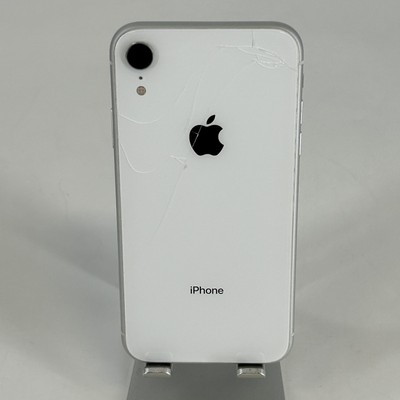crack_phone: (87, 14, 317, 376)
